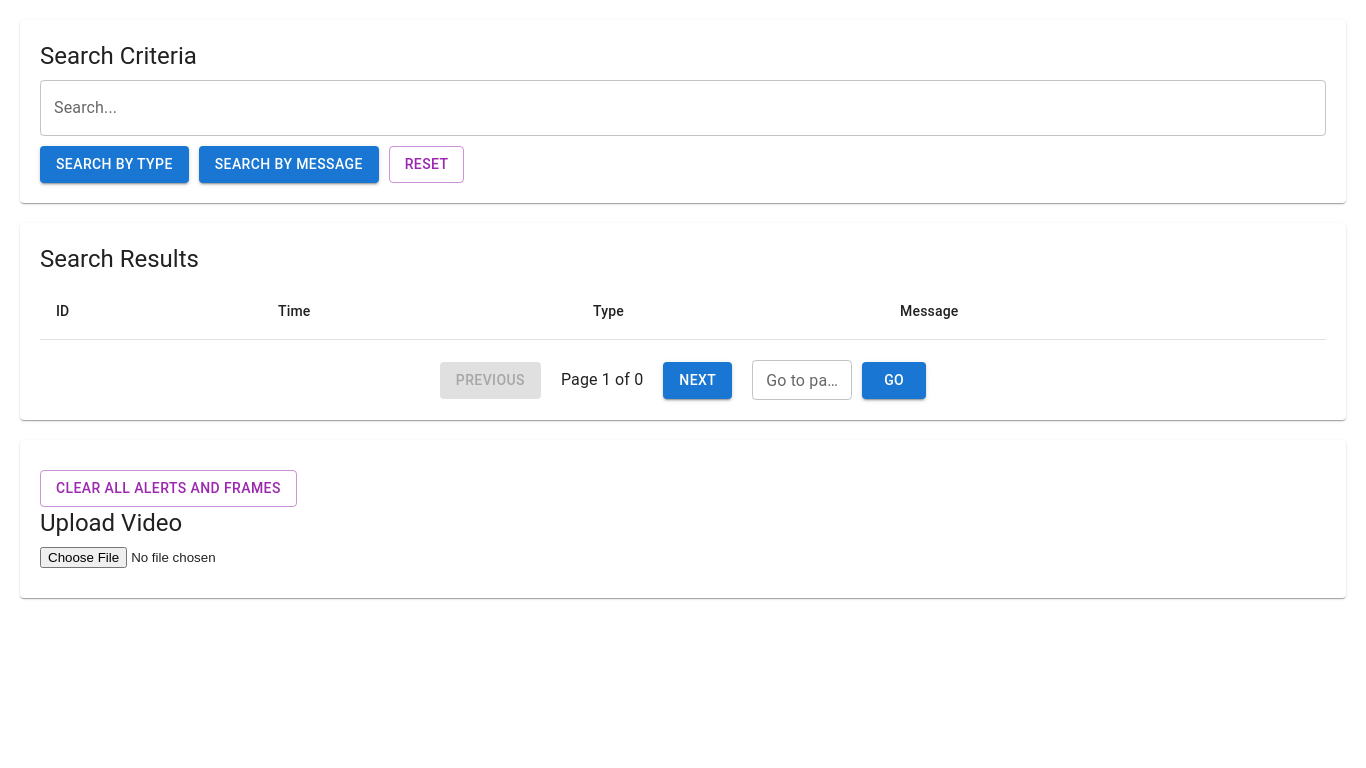
it: shows inline error when clearing alerts fails
Click the button "Clear All Alerts and Frames".
click(168, 489)  # box [40,470,297,507]
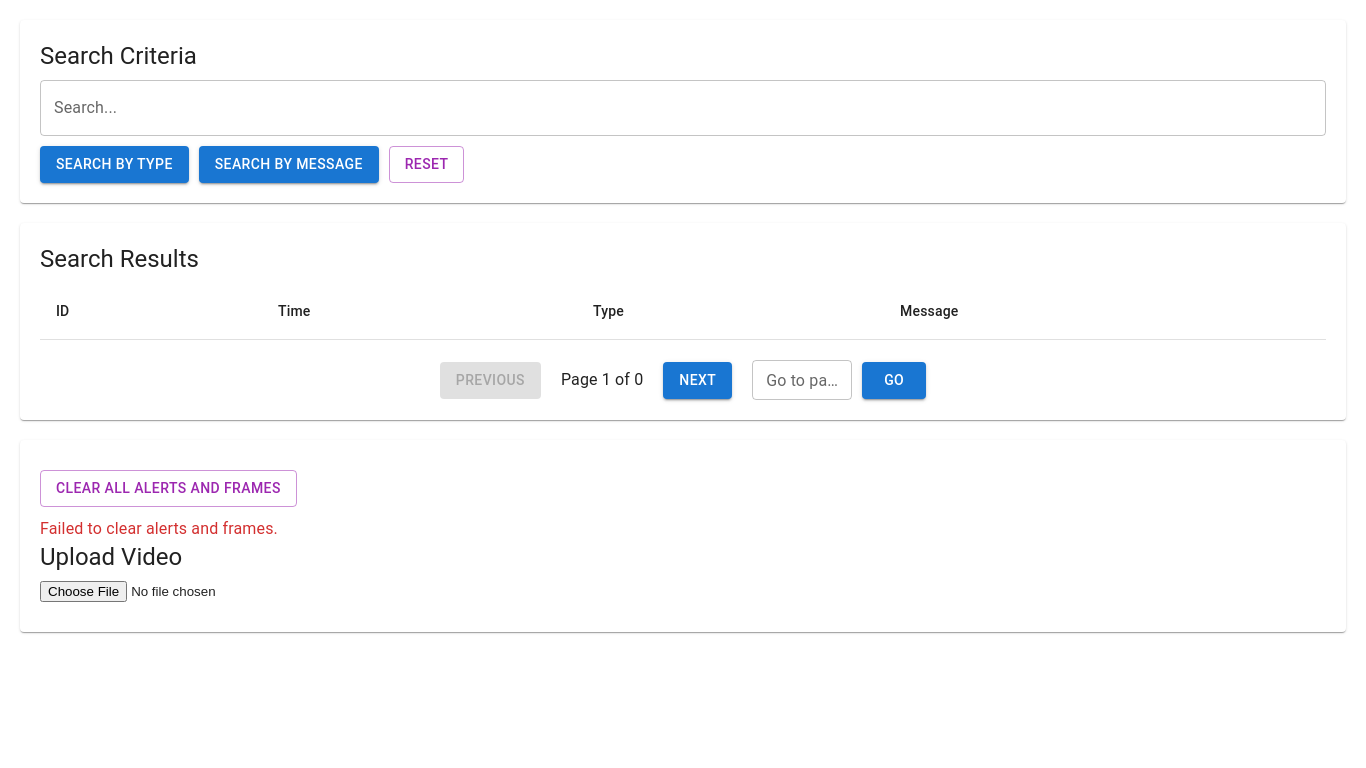
Expected: the text with test id "clear-status" reads "Failed to clear alerts and frames.", [40,519,278,538]
